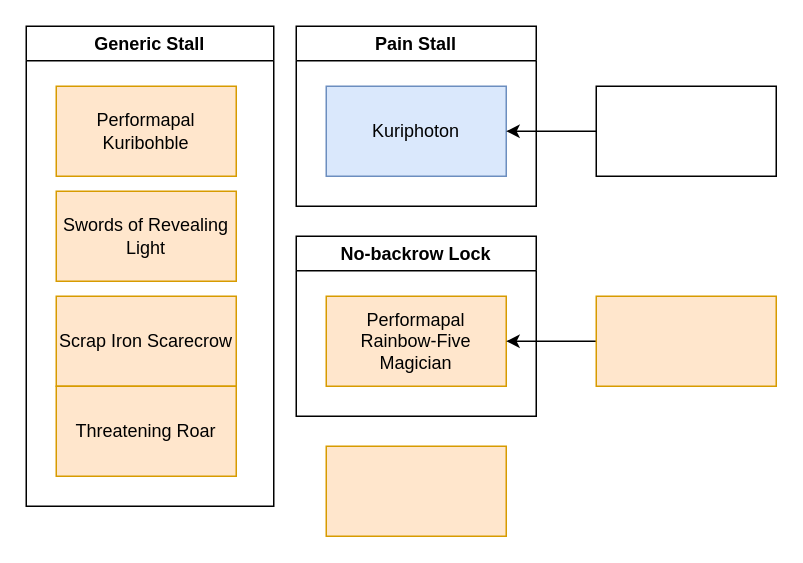
The diagram is 803 pixels wide and 563 high, and some of its shapes have lost their labels. Each missing label, with the centre of its shape:
Performapal Skullcrobat Joker: point 685,340
Photon Lizard: point 685,130
Power of the Guardians: point 415,490
